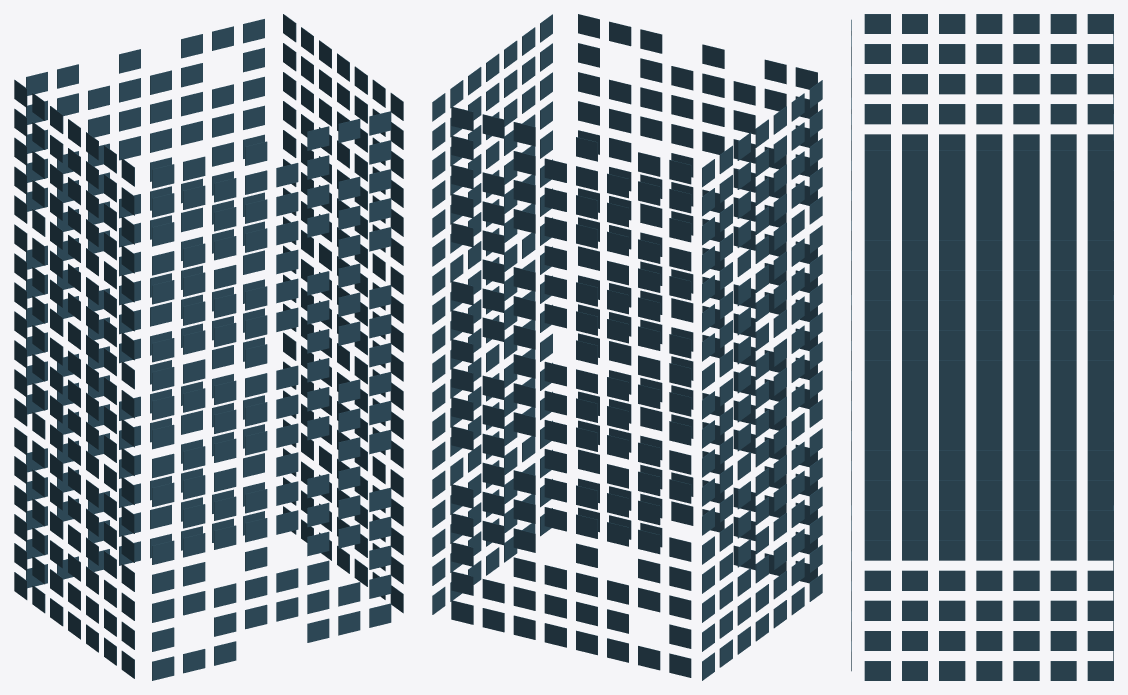
Rendered from glass.dae.
3 renders of one model, left to right at view 1: azimuth 30°, elevation 25°; view 2: azimuth 150°, elevation 25°; view 3: azimuth 270°, elevation 25°, orthographic. The views are drawn at different scales.
Size of the model in its own units: 32.13 by 26.16 by 58.28.
